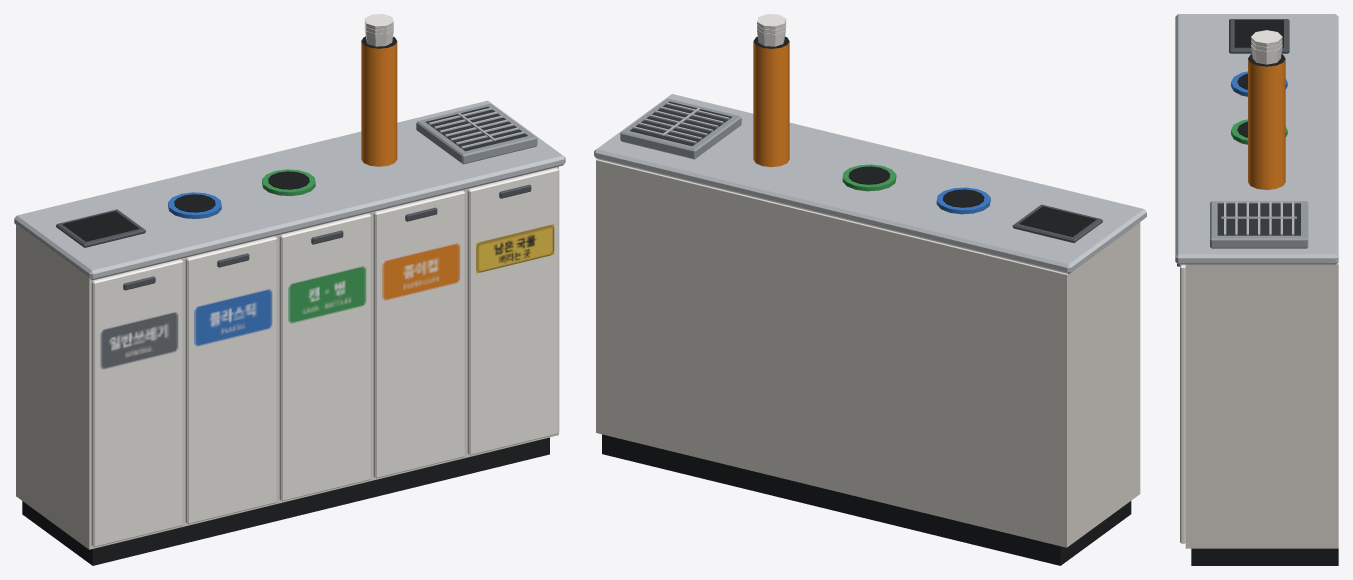
File: SC_Fix_Trash_Station.gltf
The picture shows the model from 3 angles, left to right: view 1: azimuth 30°, elevation 25°; view 2: azimuth 150°, elevation 25°; view 3: azimuth 270°, elevation 25°; orthographic projection. The views are drawn at different scales.
Visible parts, largest first — view 1: SC_Fix_Trash_Station; view 2: SC_Fix_Trash_Station; view 3: SC_Fix_Trash_Station.
Part boxes in pixels (bbox=[...]): SC_Fix_Trash_Station: bbox=[14, 14, 565, 565]; SC_Fix_Trash_Station: bbox=[594, 14, 1146, 565]; SC_Fix_Trash_Station: bbox=[1175, 14, 1338, 565].
Size of the model in its own units: 1.52 by 1.34 by 0.432.
Materials: 2 (2 with a texture image).
